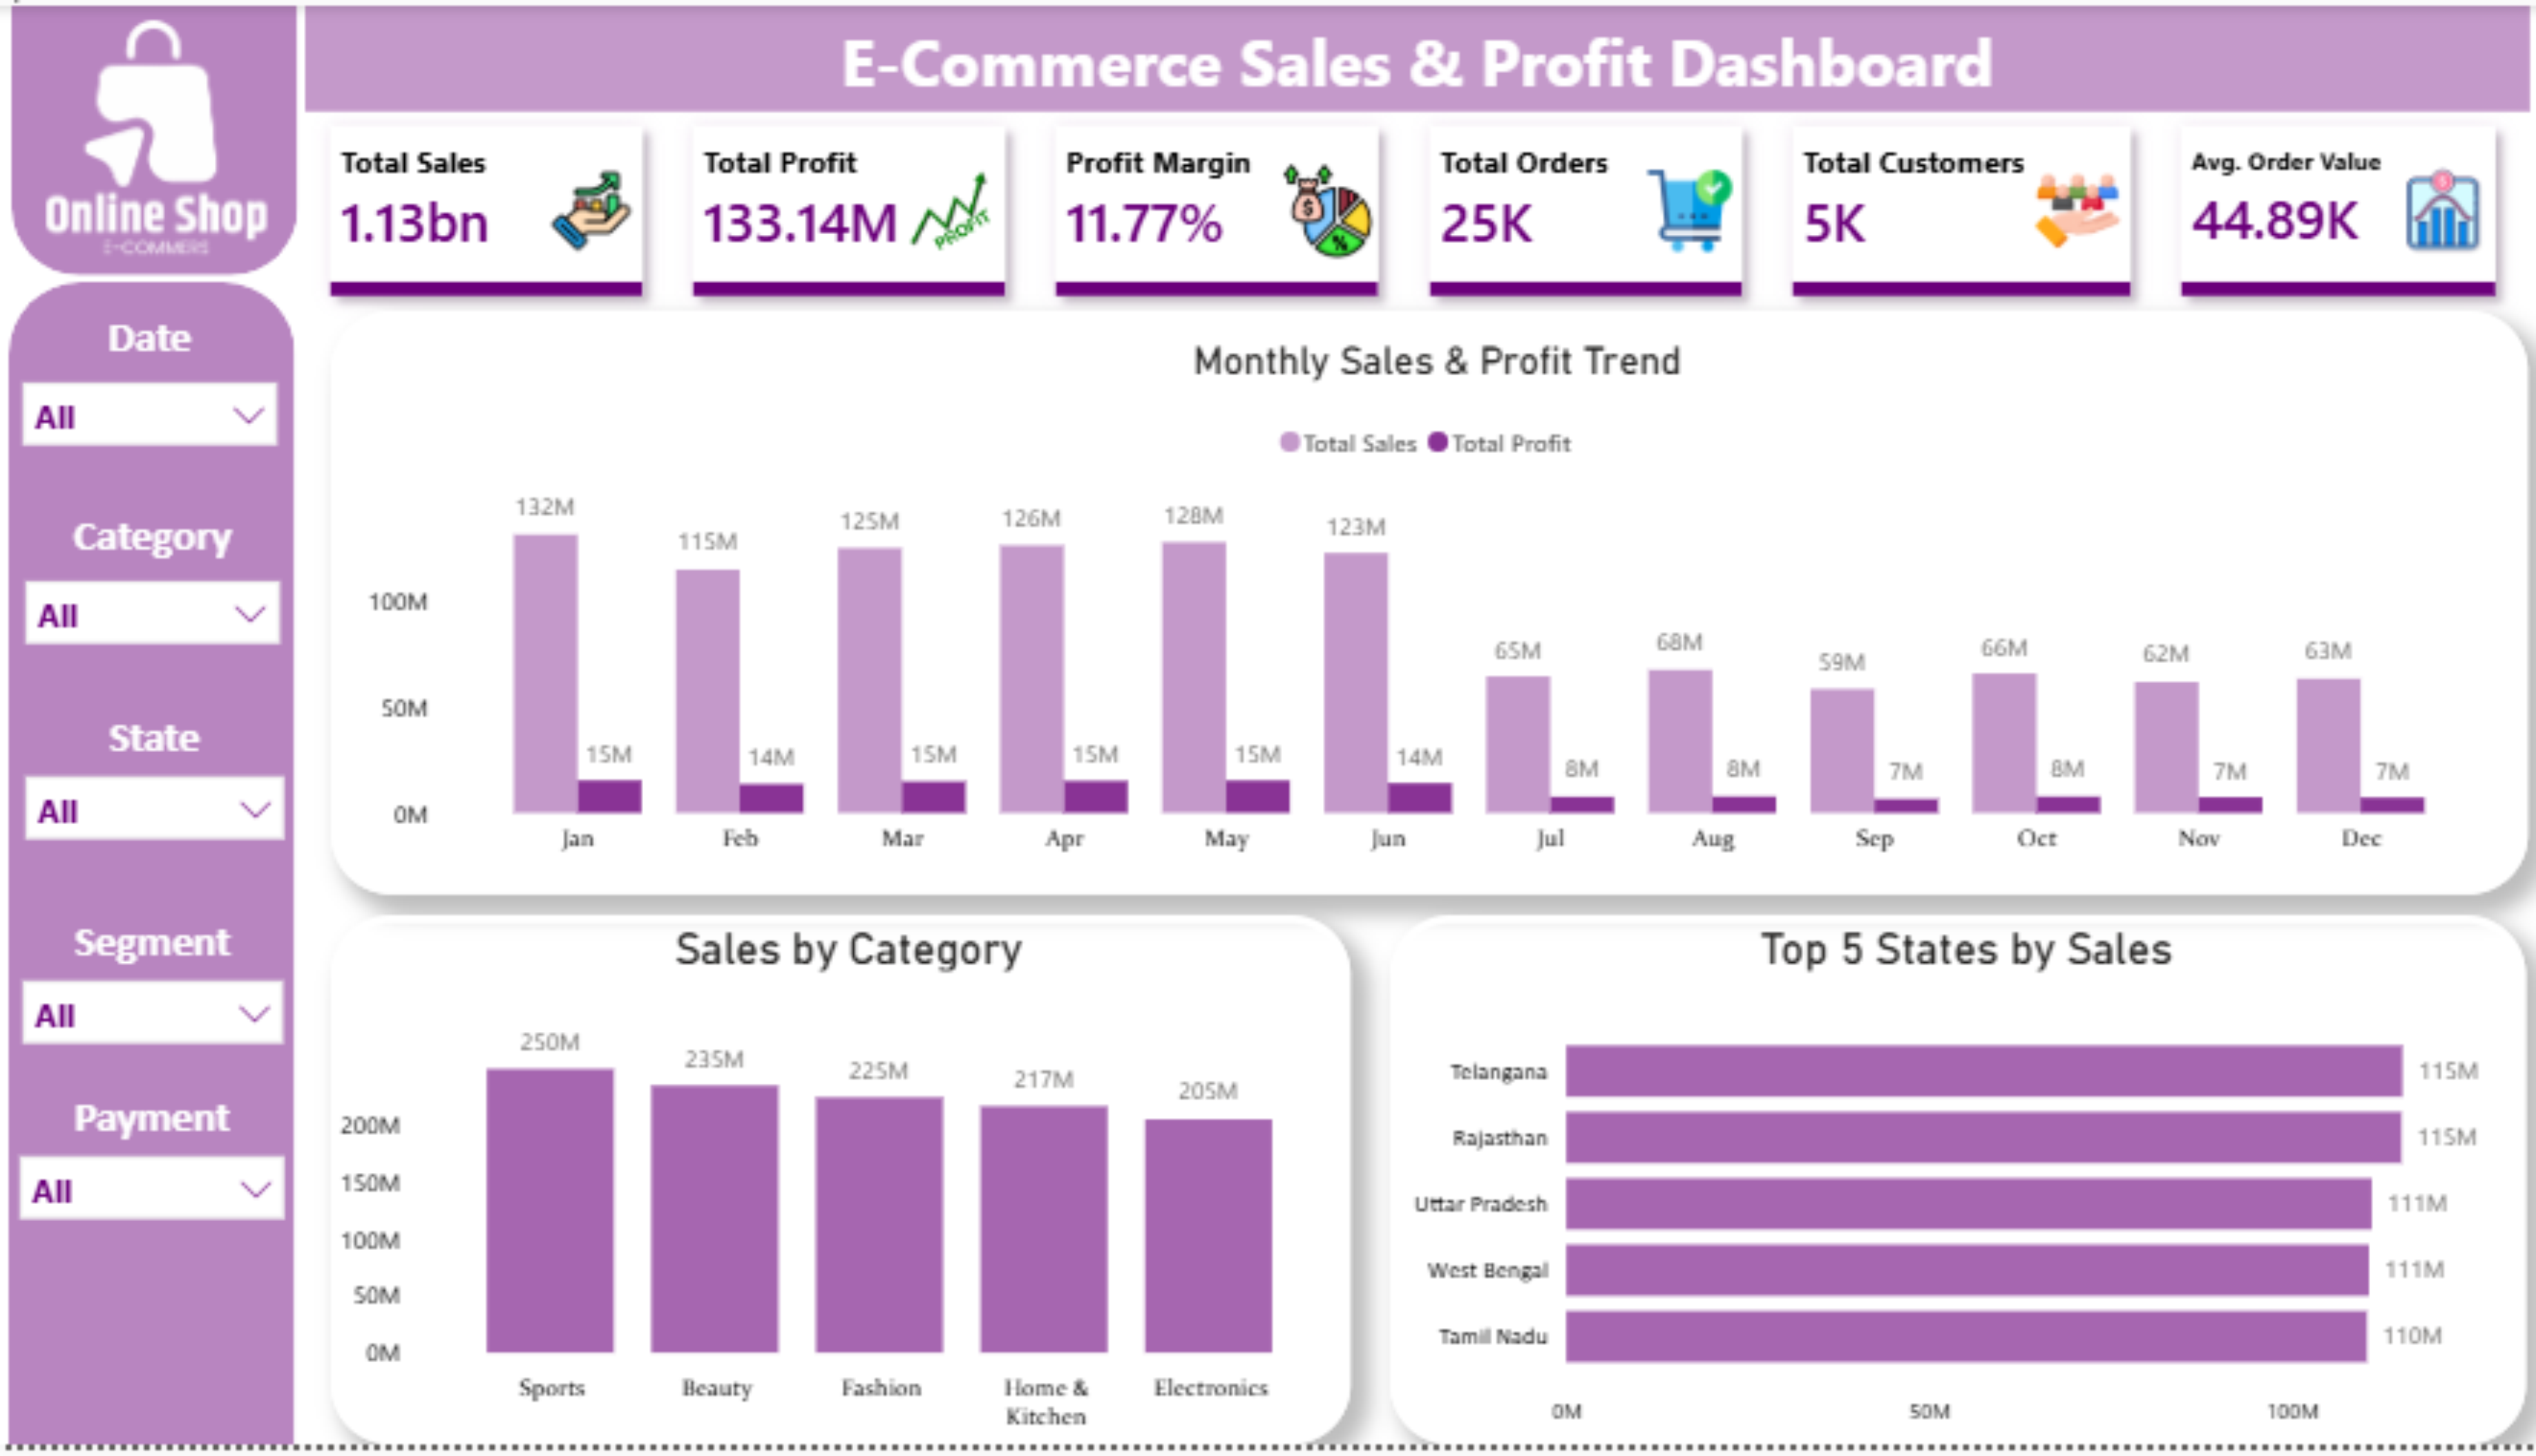

What the dashboard file says about the page in this screenshot:
{"tool":"powerbi","page":{"name":"Page 1","canvas":[1280,720],"ordinal":0},"visuals":[{"type":"shape","box":[8.9,138.3,143.3,581.7],"z":0},{"type":"shape","box":[10,0,143.3,135],"z":1000},{"type":"image","box":[8.3,6.7,148.3,116.7],"z":2000},{"type":"cardVisual","fields":{"Data":["DateTable.Total Sales"]},"box":[152.6,43.2,190.2,119.5],"z":3000},{"type":"cardVisual","fields":{"Data":["DateTable.Total Profit"]},"box":[334.2,43.2,190.4,119.5],"z":4000},{"type":"cardVisual","fields":{"Data":["DateTable.Profit Margin"]},"box":[516,43.2,195.2,119.5],"z":5000},{"type":"cardVisual","fields":{"Data":["DateTable.Total Orders"]},"box":[702.5,43.2,190.4,119.5],"z":6000},{"type":"cardVisual","fields":{"Data":["DateTable.Total Customers"]},"box":[884.3,43.2,203.2,119.5],"z":7000},{"type":"cardVisual","fields":{"Data":["DateTable.Average Order Value"]},"box":[1078.9,43.2,191.2,119.5],"z":8000},{"type":"slicer","title":"Category","fields":{"Values":["ecommerce_analytics products_clean.category"]},"box":[6.7,252.3,146.7,83.3],"z":9000},{"type":"slicer","title":"State","fields":{"Values":["ecommerce_analytics customers_clean.state"]},"box":[6.7,352.3,148.9,86.7],"z":10000},{"type":"slicer","title":"Segment","fields":{"Values":["ecommerce_analytics customers_clean.customer_segment"]},"box":[5.6,455.6,150,71.1],"z":11000},{"type":"slicer","title":"Payment","fields":{"Values":["ecommerce_analytics orders_clean.payment_method"]},"box":[4.4,543.3,152.2,91.1],"z":12000},{"type":"clusteredColumnChart","title":"Monthly Sales & Profit Trend","fields":{"Category":["DateTable.Month"],"Y":["DateTable.Total Sales","DateTable.Total Profit"]},"box":[169.9,152.6,1098.7,292.3],"z":13000},{"type":"columnChart","title":"Sales by Category","fields":{"Y":["DateTable.Total Sales"],"Category":["ecommerce_analytics products_clean.category"]},"box":[170,455,510,265],"z":14000},{"type":"clusteredBarChart","title":"Top 5 States by Sales","fields":{"Category":["ecommerce_analytics customers_clean.state"],"Y":["DateTable.Total Sales"]},"box":[700,455,568.3,265],"z":15000},{"type":"slicer","title":"Date","fields":{"Values":["DateTable.Month"]},"box":[5.7,152.9,147.1,82.9],"z":16000},{"type":"textbox","box":[157,0,1113.1,53.3],"z":17000}]}

Visuals, with their boxes in screenshot pixels (x1, y1, x2, y2), scaled from the page's 1280x720 canvas onto the 2536x1456 screenshot:
shape: (x1=18, y1=280, x2=302, y2=1455)
shape: (x1=20, y1=0, x2=304, y2=273)
image: (x1=17, y1=14, x2=310, y2=249)
cardVisual - DateTable.Total Sales: (x1=303, y1=87, x2=679, y2=329)
cardVisual - DateTable.Total Profit: (x1=662, y1=87, x2=1040, y2=329)
cardVisual - DateTable.Profit Margin: (x1=1022, y1=87, x2=1409, y2=329)
cardVisual - DateTable.Total Orders: (x1=1392, y1=87, x2=1769, y2=329)
cardVisual - DateTable.Total Customers: (x1=1752, y1=87, x2=2155, y2=329)
cardVisual - DateTable.Average Order Value: (x1=2137, y1=87, x2=2517, y2=329)
"Category" slicer: (x1=13, y1=510, x2=304, y2=679)
"State" slicer: (x1=13, y1=712, x2=308, y2=888)
"Segment" slicer: (x1=11, y1=921, x2=308, y2=1065)
"Payment" slicer: (x1=9, y1=1099, x2=310, y2=1283)
"Monthly Sales & Profit Trend" clusteredColumnChart: (x1=336, y1=309, x2=2513, y2=900)
"Sales by Category" columnChart: (x1=337, y1=920, x2=1347, y2=1455)
"Top 5 States by Sales" clusteredBarChart: (x1=1387, y1=920, x2=2513, y2=1455)
"Date" slicer: (x1=11, y1=309, x2=303, y2=477)
textbox: (x1=311, y1=0, x2=2517, y2=108)
